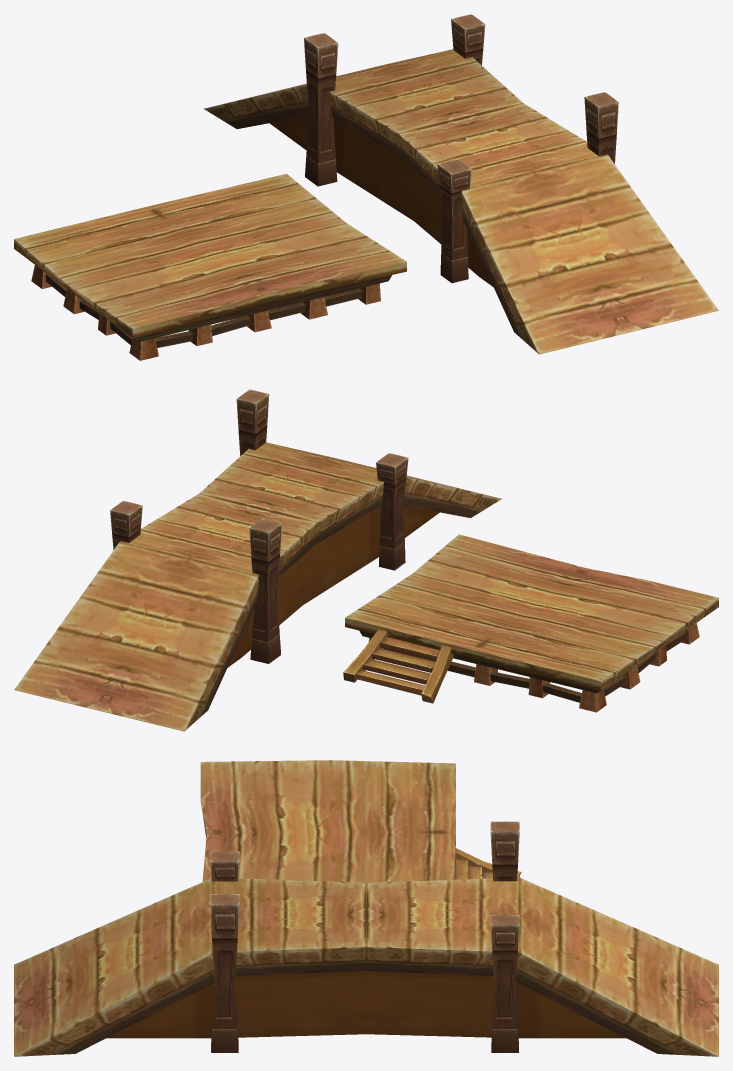
The model's file is mu_qiao_001.FBX.
3 views of the same model, one above another, from view 1: azimuth 30°, elevation 25°; view 2: azimuth 150°, elevation 25°; view 3: azimuth 270°, elevation 25° (orthographic). The views are drawn at different scales.
Visible parts, largest first — view 1: mu_qiao_001_a, mu_qiao_001_b; view 2: mu_qiao_001_a, mu_qiao_001_b; view 3: mu_qiao_001_a, mu_qiao_001_b.
Boxes of the visible parts, box(x1,y1,x2,y2) form: mu_qiao_001_a: box(203, 14, 718, 354); mu_qiao_001_b: box(14, 174, 406, 360); mu_qiao_001_a: box(14, 389, 501, 731); mu_qiao_001_b: box(343, 534, 718, 712); mu_qiao_001_a: box(14, 821, 718, 1056); mu_qiao_001_b: box(200, 760, 521, 882).
Size of the model in its own units: 989 by 271 by 1148.
